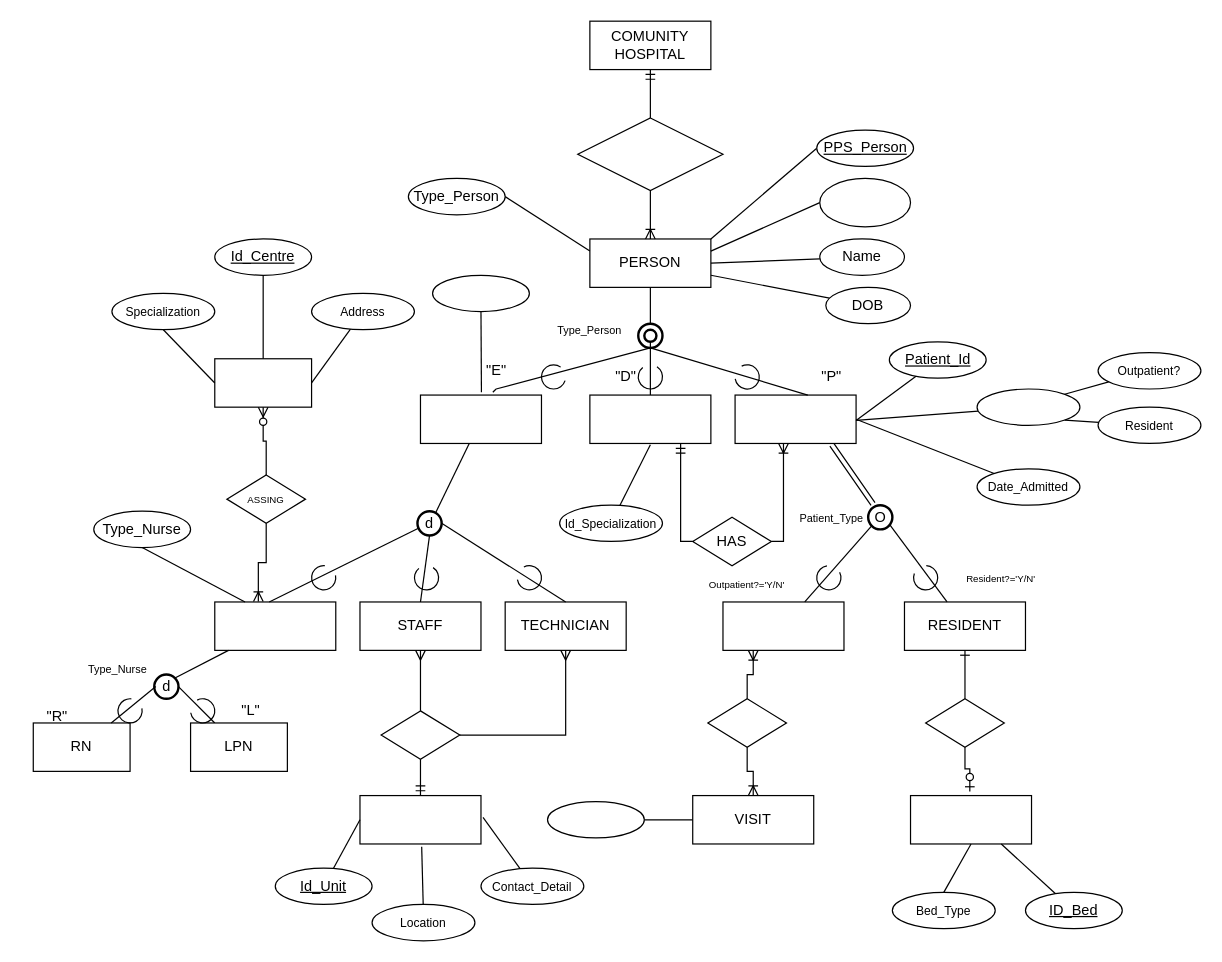
The diagram is 1222 pixels wide and 962 high, and some of its shapes have lost their labels. The shapes that lost their labels are listed below. From the top down, each one's centre as x and y in pixels, then its label:
the point at 650,154: COMPROMISE
the point at 865,202: Contact _Detail
the point at 480,293: Employee_Id
the point at 263,382: CENTRE
the point at 480,418: EMPLOYEE
the point at 650,418: DOCTOR
the point at 795,418: PATIENT
the point at 1028,406: Parient_Type
the point at 275,625: NURSE
the point at 783,625: OUTPATIENT
the point at 420,734: WORK
the point at 746,722: SCHEDULE
the point at 964,722: PROVIDE
the point at 420,819: UNIT
the point at 595,819: ID_Visit
the point at 970,819: BED
